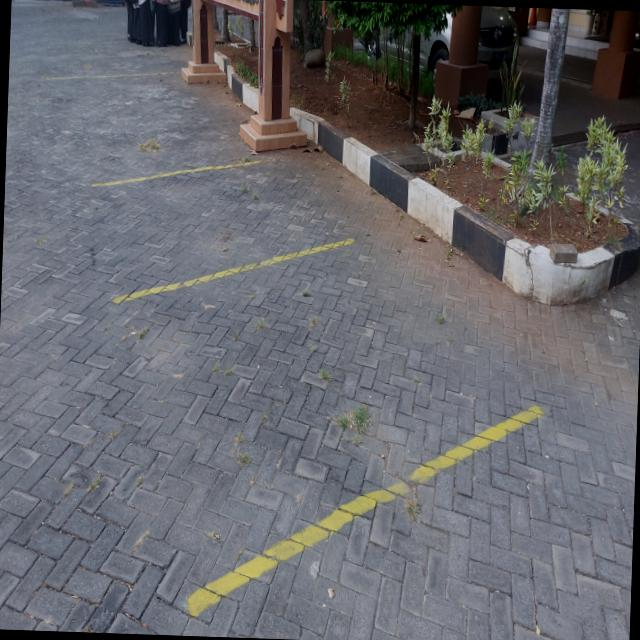free: (122, 240, 535, 609), (95, 155, 352, 292)
